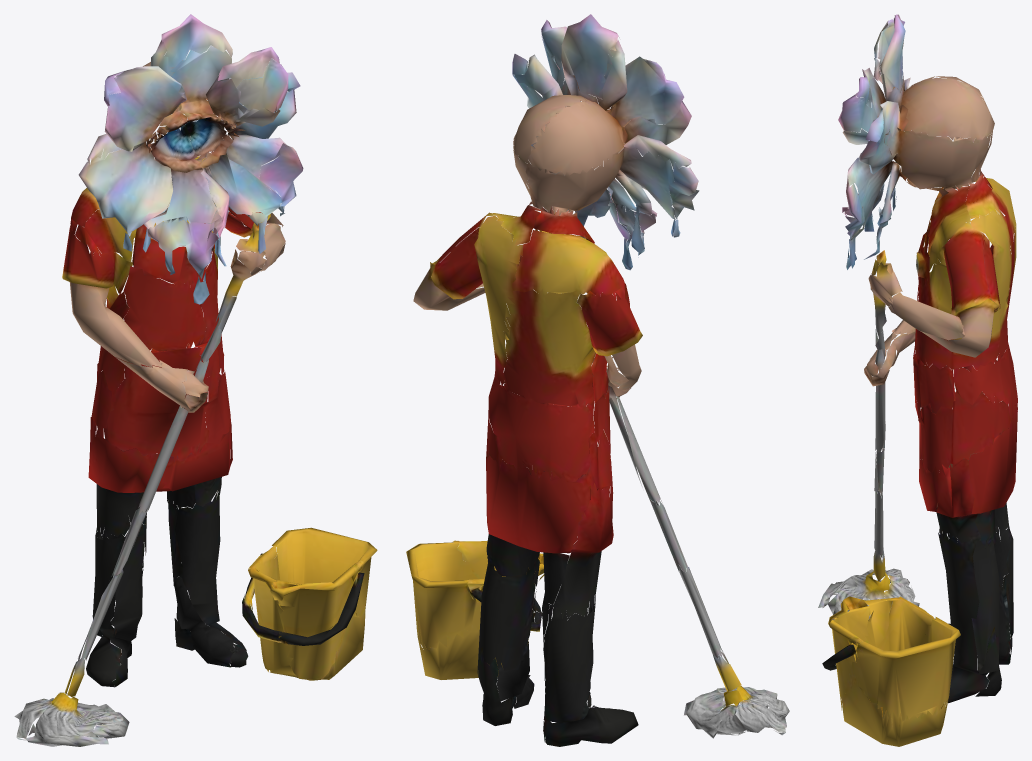
Rendered from crowd_prince_full.glb.
3 renders of one model, left to right at view 1: azimuth 30°, elevation 25°; view 2: azimuth 150°, elevation 25°; view 3: azimuth 270°, elevation 25°, orthographic. The views are drawn at different scales.
Parts seen in each view (by area): view 1: tripo_node_2dce6e9b-2e8f-44e1-86c0-bc7627a16ed6; view 2: tripo_node_2dce6e9b-2e8f-44e1-86c0-bc7627a16ed6; view 3: tripo_node_2dce6e9b-2e8f-44e1-86c0-bc7627a16ed6.
Boxes of the visible parts, x1=… form: tripo_node_2dce6e9b-2e8f-44e1-86c0-bc7627a16ed6: x1=14, y1=14, x2=377, y2=746; tripo_node_2dce6e9b-2e8f-44e1-86c0-bc7627a16ed6: x1=406, y1=14, x2=789, y2=746; tripo_node_2dce6e9b-2e8f-44e1-86c0-bc7627a16ed6: x1=818, y1=14, x2=1017, y2=746.
Bounding box in the file's own units: 0.5643 × 1 × 0.2761.
Materials: 1 (1 with a texture image).
